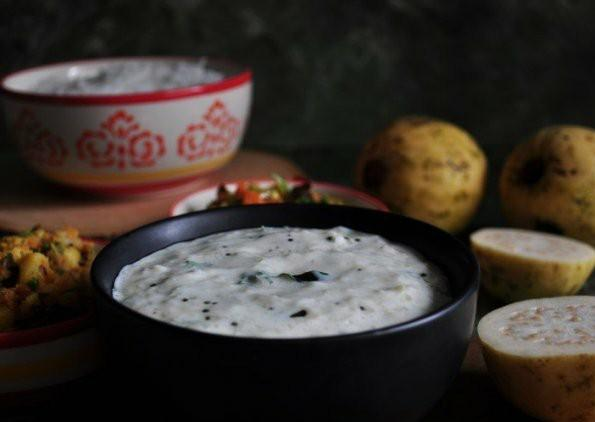CoconutChutney: (111, 228, 458, 339)
